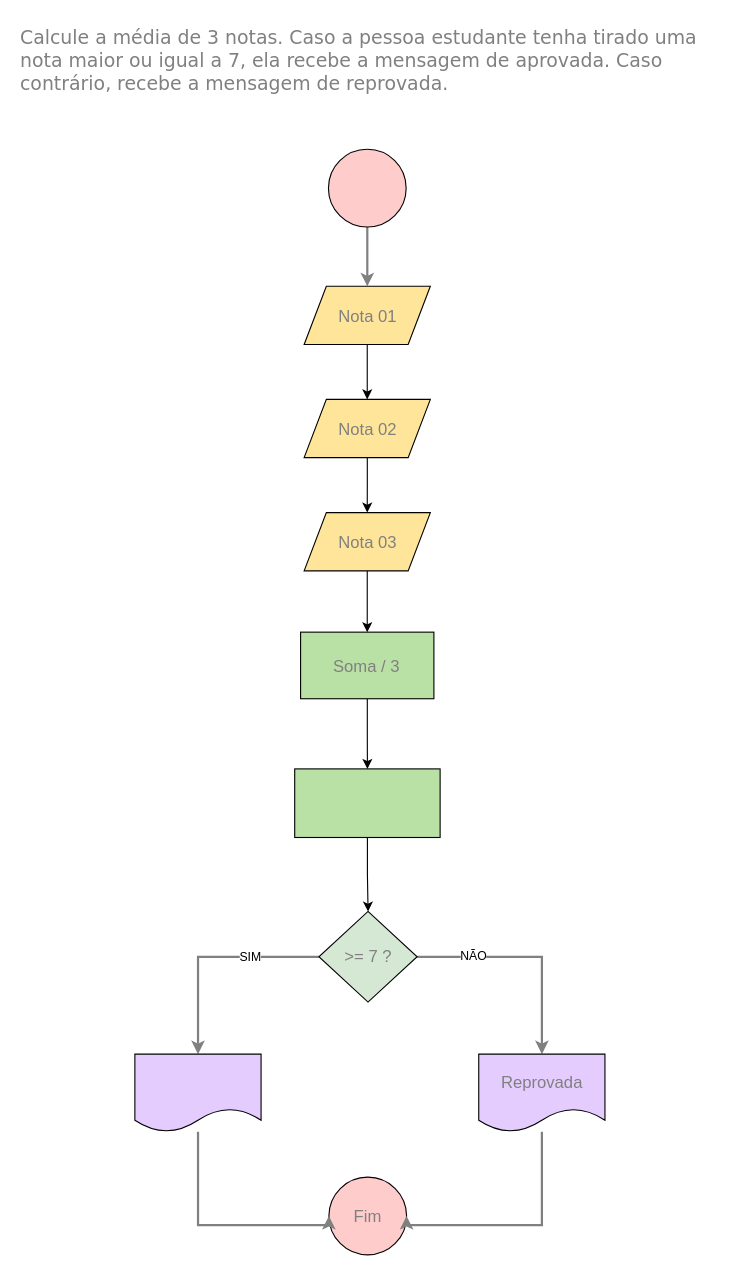
Image size: 735x1274. Some labels were removed from this diagram. Here are the shapes that lost their labels. From the top down, the box of each, then its label:
(327, 148, 406, 227): Início
(294, 768, 440, 837): media_notas
(134, 1053, 261, 1132): Aprovada
